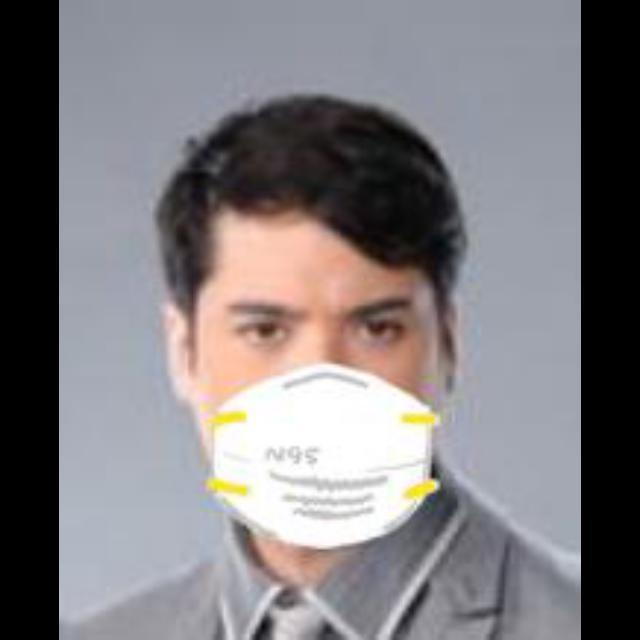suspicion: (140, 52, 482, 552)
